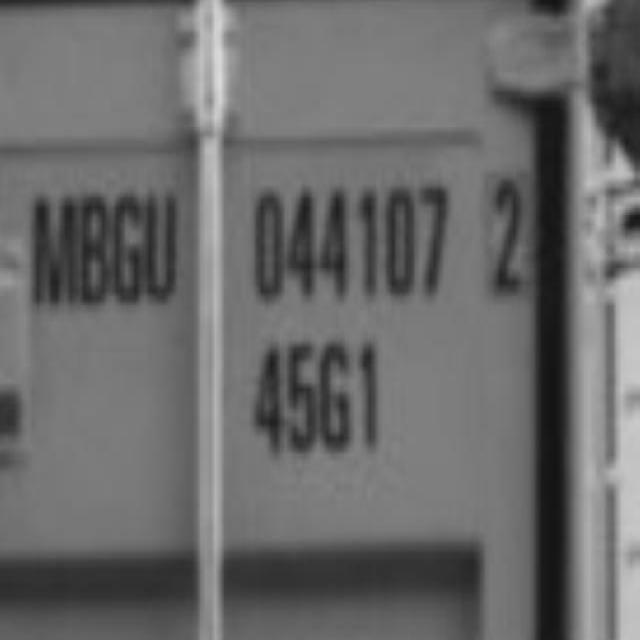dv: (476, 162, 524, 300)
owner: (29, 174, 184, 308)
serial: (242, 160, 446, 306)
size: (243, 327, 391, 466)
